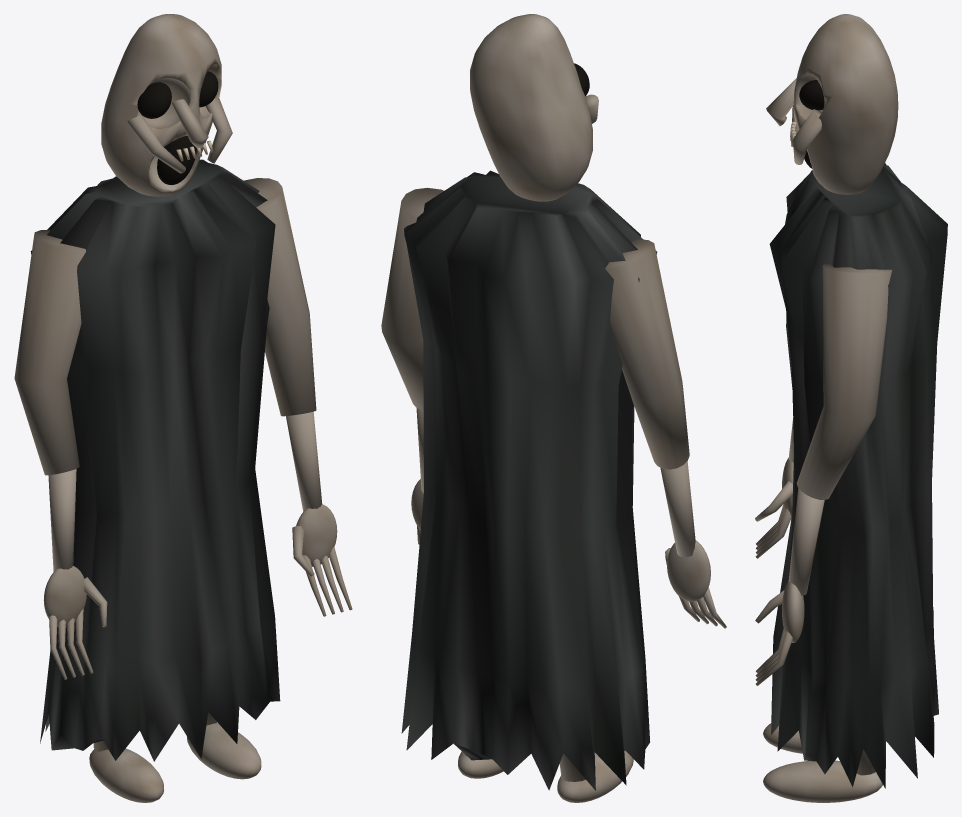
Rendered from visitor-split.glb.
3 renders of one model, left to right at view 1: azimuth 30°, elevation 25°; view 2: azimuth 150°, elevation 25°; view 3: azimuth 270°, elevation 25°, orthographic. The views are drawn at different scales.
Parts seen in each view (by area): view 1: Torso, ArmL, ArmR, Head, LegL, LegR, Mouth darkness, Cheek ridge, Hollow eyes, Cheek ridge.001, Nasal bone; view 2: Torso, Head, ArmL, ArmR, LegL, LegR; view 3: Torso, ArmR, Head, LegR, ArmL, Cheek ridge.001, Nasal bone, Hollow eyes.001, LegL.
Boxes of the visible parts, x1,y1,x2,y2 form: Torso: (30, 159, 280, 761); ArmL: (14, 229, 107, 679); ArmR: (244, 178, 352, 616); Head: (101, 14, 221, 196); LegL: (89, 740, 163, 802); LegR: (187, 712, 261, 779); Mouth darkness: (157, 135, 196, 184); Cheek ridge: (127, 115, 185, 173); Hollow eyes: (137, 82, 171, 118); Cheek ridge.001: (205, 98, 232, 163); Nasal bone: (172, 99, 208, 147); Torso: (401, 170, 657, 790); Head: (470, 14, 592, 201); ArmL: (605, 239, 726, 628); ArmR: (381, 187, 443, 544); LegL: (557, 750, 633, 802); LegR: (458, 751, 503, 778); Torso: (769, 163, 947, 788); ArmR: (755, 263, 892, 685); Head: (793, 14, 898, 194); LegR: (763, 749, 882, 802); ArmL: (755, 418, 793, 558); Cheek ridge.001: (793, 109, 821, 164); Nasal bone: (766, 78, 796, 125); Hollow eyes.001: (799, 80, 824, 110); LegL: (763, 723, 802, 753).
Bounding box in the file's own units: 0.84 × 2.08 × 0.477.
